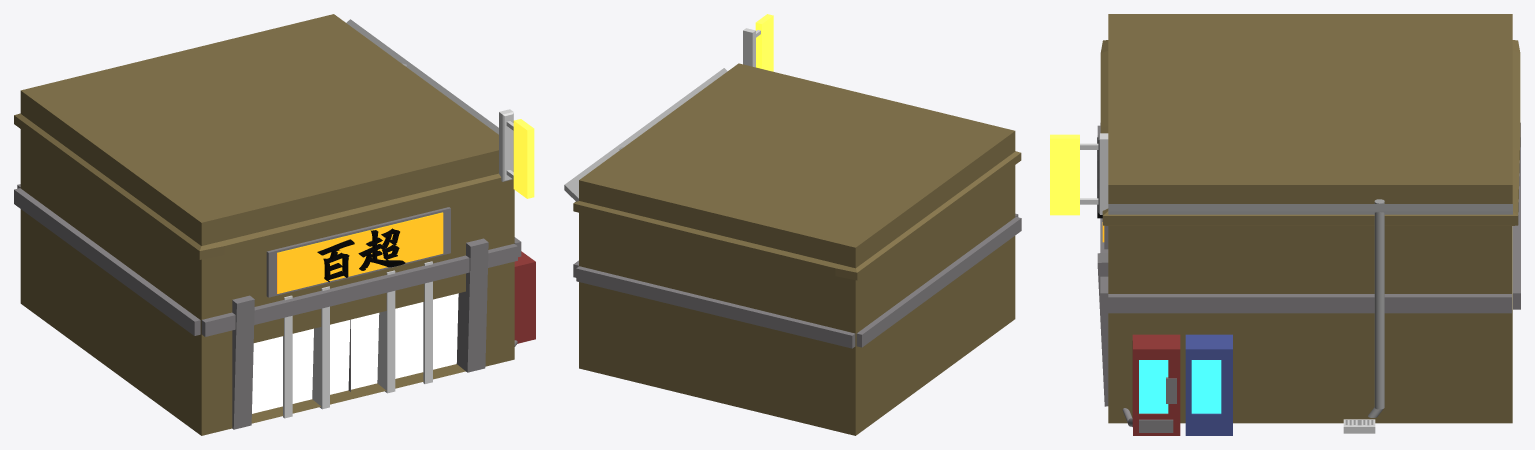
3 renders of one model, left to right at view 1: azimuth 30°, elevation 25°; view 2: azimuth 150°, elevation 25°; view 3: azimuth 270°, elevation 25°, orthographic. The views are drawn at different scales.
Parts seen in each view (by area): view 1: Cube, Cube.004, Cube.027, Cube.006, Cube.011, Cube.020, Cube.005, Cube.026, Cube.017, Text, Cube.023, Cube.015 (+5 smaller); view 2: Cube, Cube.009, Cube.011, Cube.002, Cube.015, Cube.012; view 3: Cube, Cube.010, Cube.002, Cube.007, Cube.017, Cube.015, Cylinder.001, Cube.008, Cube.016, Cube.020, Cube.009, Cube.012 (+3 smaller).
Part boxes in pixels (x1,y1,x2,y2): Cube: [14, 14, 514, 435]; Cube.004: [252, 293, 458, 413]; Cube.027: [277, 212, 443, 293]; Cube.006: [201, 243, 517, 336]; Cube.011: [14, 188, 200, 335]; Cube.020: [456, 238, 488, 372]; Cube.005: [232, 295, 254, 429]; Cube.026: [266, 207, 450, 297]; Cube.017: [514, 251, 535, 343]; Text: [317, 228, 405, 282]; Cube.023: [377, 270, 395, 393]; Cube.015: [513, 119, 534, 198]; Cube: [573, 63, 1021, 435]; Cube.009: [576, 266, 855, 348]; Cube.011: [856, 217, 1021, 347]; Cube.002: [564, 68, 727, 201]; Cube.015: [755, 14, 773, 71]; Cube.012: [743, 28, 755, 67]; Cube: [1100, 14, 1520, 423]; Cube.010: [1108, 294, 1511, 313]; Cube.002: [1108, 204, 1512, 214]; Cube.007: [1185, 334, 1232, 435]; Cube.017: [1132, 334, 1180, 435]; Cube.015: [1050, 134, 1079, 215]; Cylinder.001: [1368, 199, 1384, 417]; Cube.008: [1191, 360, 1221, 413]; Cube.016: [1139, 360, 1168, 413]; Cube.020: [1097, 253, 1108, 406]; Cube.009: [1513, 122, 1520, 309]; Cube.012: [1098, 133, 1108, 214].
Size of what is drawn, in the model's own units: 14.06 by 9.65 by 14.5.
